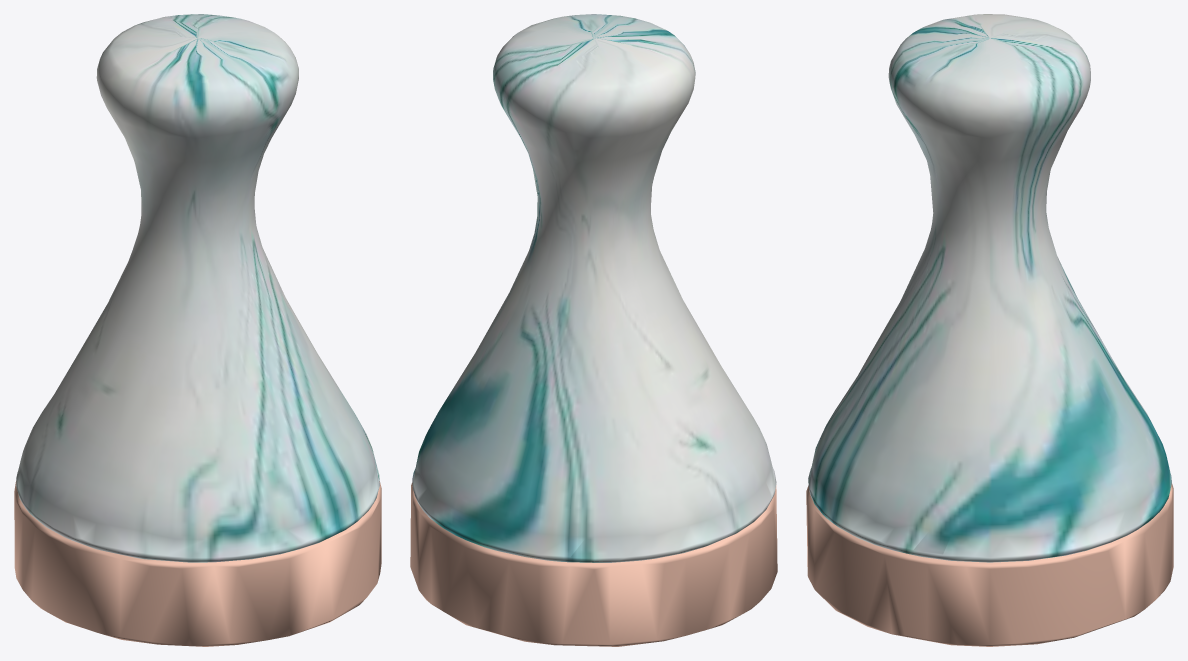
The model's file is pesec_bila.glb.
3 views of the same model, side by side, from view 1: azimuth 30°, elevation 25°; view 2: azimuth 150°, elevation 25°; view 3: azimuth 270°, elevation 25° (orthographic).
Visible parts, largest first — view 1: pesec_bila; view 2: pesec_bila; view 3: pesec_bila.
Boxes of the visible parts, x1=… form: pesec_bila: x1=14, y1=14, x2=381, y2=646; pesec_bila: x1=410, y1=14, x2=777, y2=646; pesec_bila: x1=806, y1=14, x2=1173, y2=646.
Bounding box in the file's own units: 0.058 × 0.0928 × 0.058.
2 materials, 1 textured.
